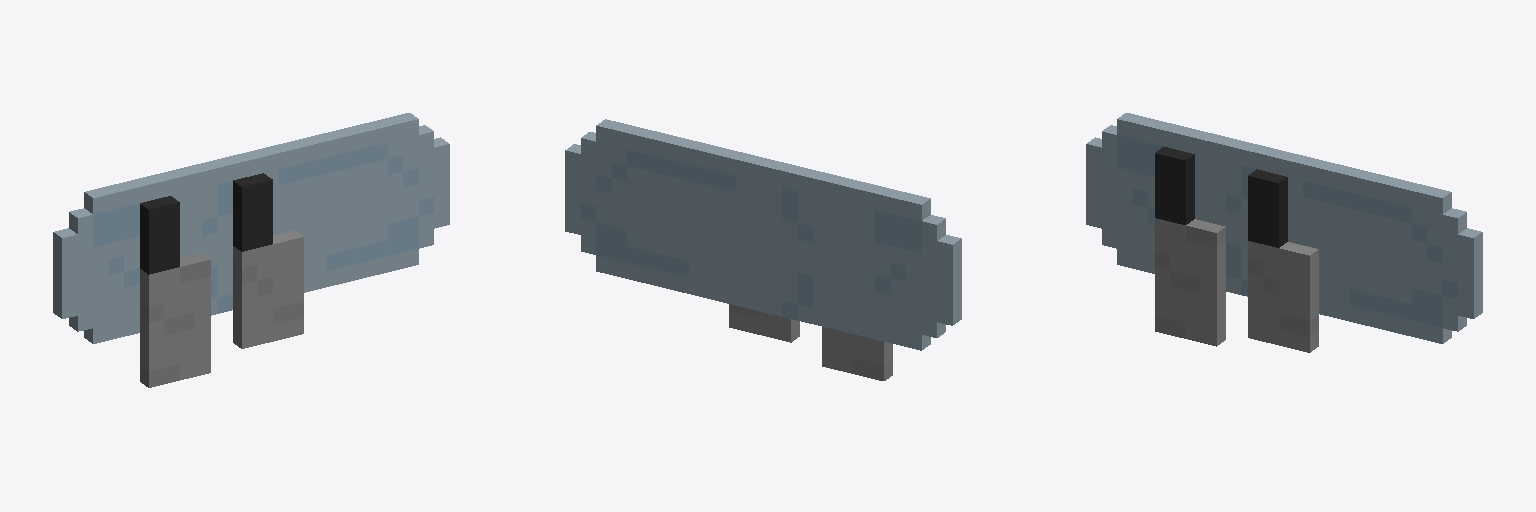
3 views of the same model, side by side, from view 1: azimuth 30°, elevation 25°; view 2: azimuth 150°, elevation 25°; view 3: azimuth 330°, elevation 25° (orthographic).
Parts seen in each view (by area): view 1: object 1; view 2: object 1; view 3: object 1.
Boxes of the visible parts, x1,y1,x2,y2 form: object 1: [53, 113, 449, 387]; object 1: [565, 119, 961, 380]; object 1: [1086, 113, 1482, 352].
Bounding box in the file's own units: 2.5 × 1.2 × 0.2.
1 materials, 1 textured.